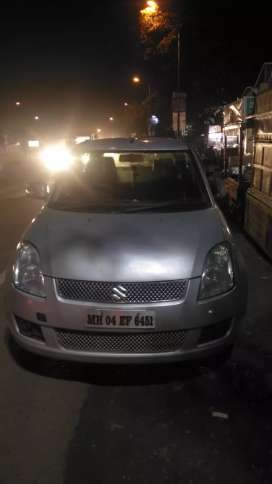license_plate: (86, 308, 159, 333)
